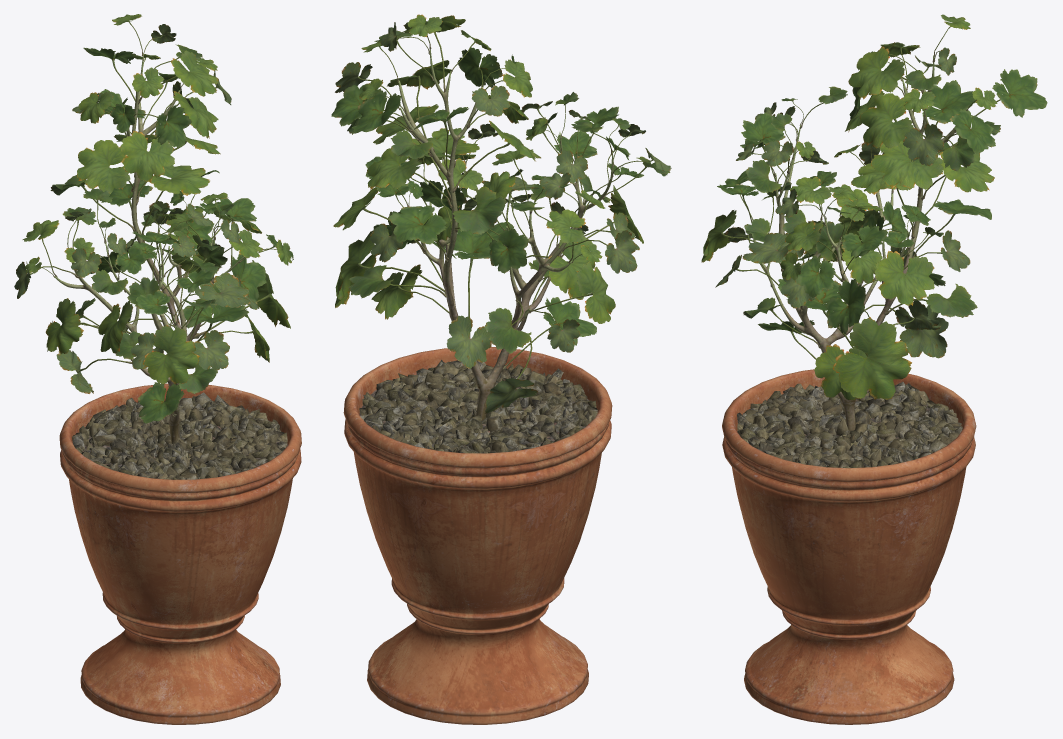
The model's file is SM_PottedPlant01.fbx.
3 renders of one model, left to right at view 1: azimuth 30°, elevation 25°; view 2: azimuth 150°, elevation 25°; view 3: azimuth 270°, elevation 25°, orthographic. The views are drawn at different scales.
Visible parts, largest first — view 1: SM_PottedPlant01; view 2: SM_PottedPlant01; view 3: SM_PottedPlant01.
Part boxes in pixels (x1,y1,x2,y2): SM_PottedPlant01: (14, 14, 301, 724); SM_PottedPlant01: (331, 14, 671, 724); SM_PottedPlant01: (701, 14, 1047, 724).
Bounding box in the file's own units: 58.89 × 63.66 × 134.
